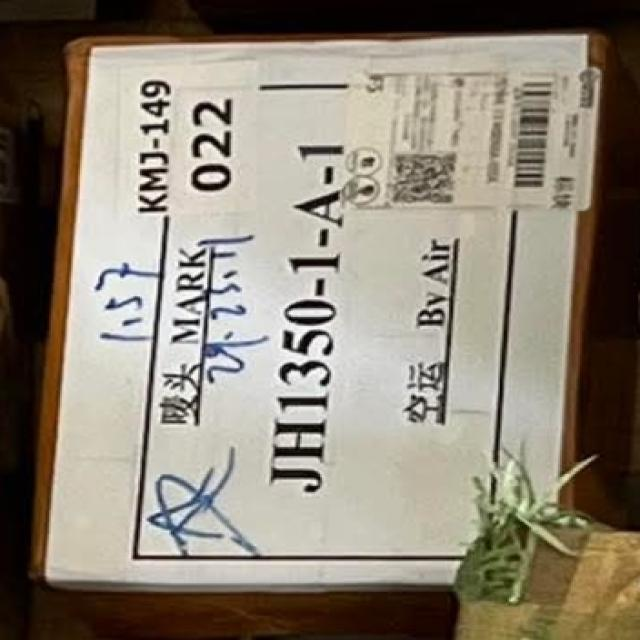carton_box: (28, 10, 632, 629)
export_mark_label: (73, 38, 590, 602)
